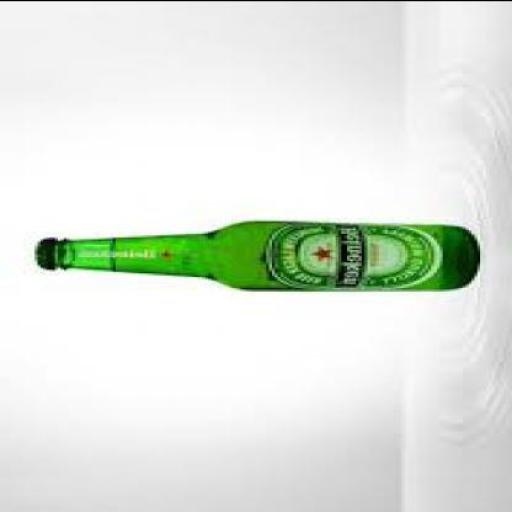glass: (32, 218, 478, 288)
metal: (35, 234, 55, 269)
